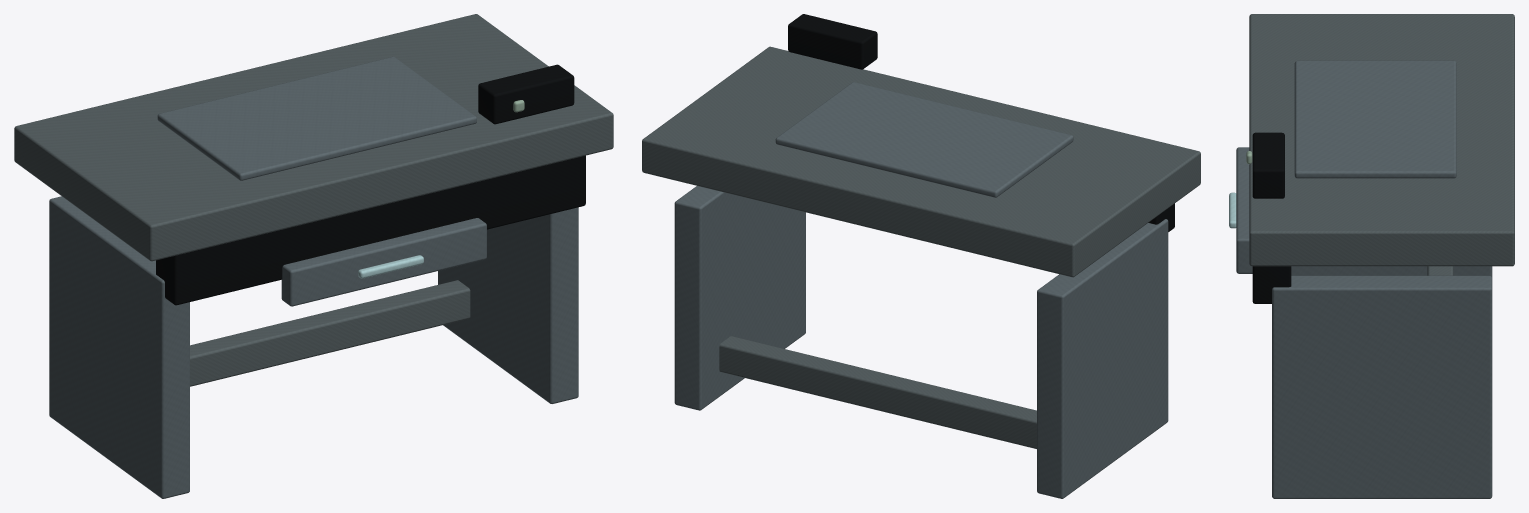
Rendered from Workbench.fbx.
3 views of the same model, side by side, from view 1: azimuth 30°, elevation 25°; view 2: azimuth 150°, elevation 25°; view 3: azimuth 270°, elevation 25° (orthographic). The views are drawn at different scales.
Parts seen in each view (by area): view 1: Workbench_Mesh; view 2: Workbench_Mesh; view 3: Workbench_Mesh.
Part boxes in pixels (x1=…): Workbench_Mesh: x1=14, y1=14, x2=613, y2=498; Workbench_Mesh: x1=642, y1=14, x2=1200, y2=498; Workbench_Mesh: x1=1229, y1=14, x2=1514, y2=498.
Size of the model in its own units: 160 by 110 by 88.25.
